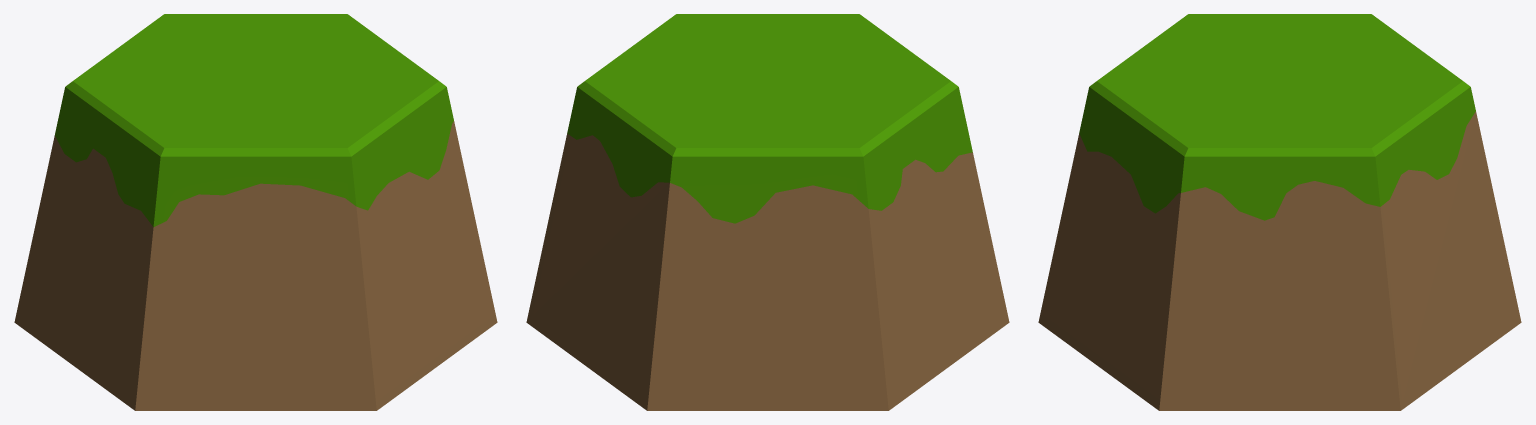
Rendered from RPG_Tiles_Hex_Mound_Moss_Large_03.FBX.
3 renders of one model, left to right at view 1: azimuth 30°, elevation 25°; view 2: azimuth 150°, elevation 25°; view 3: azimuth 270°, elevation 25°, orthographic.
Visible parts, largest first — view 1: RPG_Tiles_Hex_Mound_Moss_Large_03; view 2: RPG_Tiles_Hex_Mound_Moss_Large_03; view 3: RPG_Tiles_Hex_Mound_Moss_Large_03.
Boxes of the visible parts, x1,y1,x2,y2 form: RPG_Tiles_Hex_Mound_Moss_Large_03: [14, 14, 497, 410]; RPG_Tiles_Hex_Mound_Moss_Large_03: [526, 14, 1009, 410]; RPG_Tiles_Hex_Mound_Moss_Large_03: [1038, 14, 1521, 410].
Size of the model in its own units: 2346 by 1495 by 2709.
